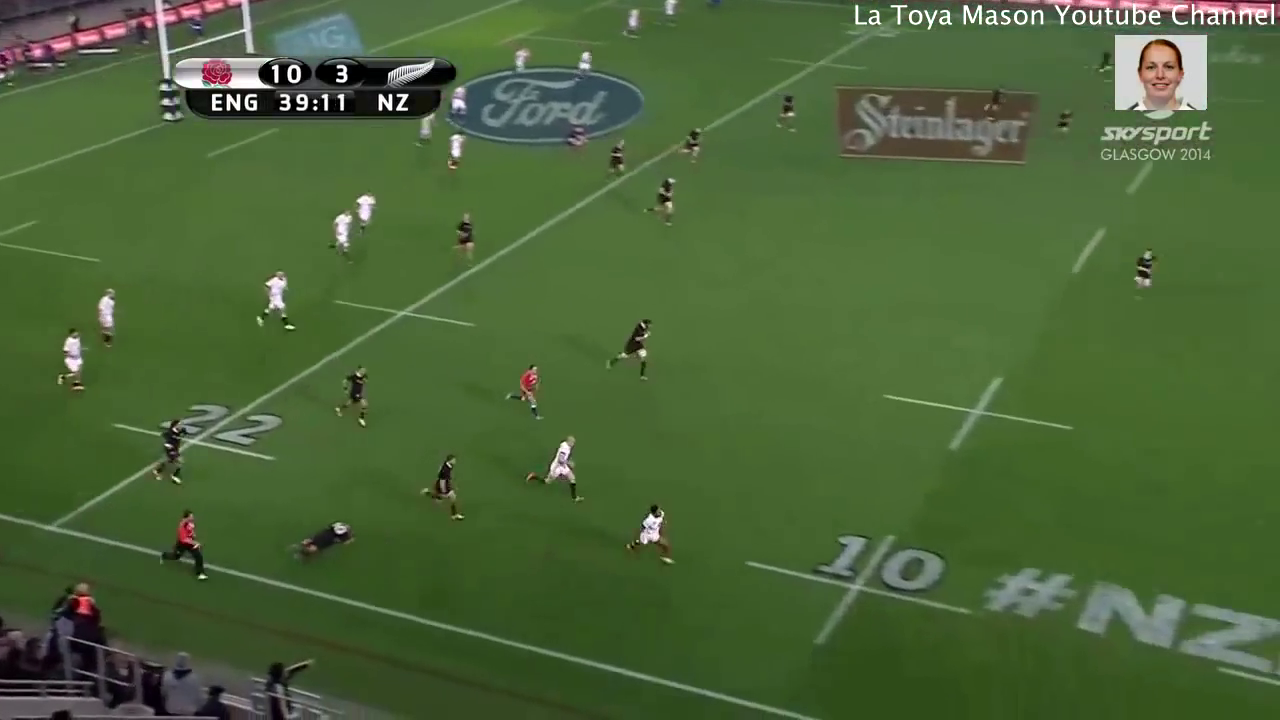player: (520, 430, 593, 508), (153, 502, 213, 584), (601, 311, 659, 387), (415, 448, 470, 528), (283, 512, 361, 564), (332, 360, 382, 435), (45, 323, 94, 396), (251, 266, 301, 336), (624, 502, 676, 566), (501, 359, 549, 424), (149, 418, 190, 489), (85, 281, 120, 352), (635, 174, 677, 233), (1129, 244, 1160, 306), (771, 86, 803, 139), (325, 209, 357, 262), (676, 123, 707, 169), (452, 214, 480, 264), (351, 185, 376, 240), (617, 1, 647, 44), (599, 137, 628, 180), (445, 80, 473, 124), (1052, 102, 1078, 143), (509, 42, 534, 84), (442, 130, 465, 175), (985, 79, 1008, 122), (561, 118, 590, 152), (570, 43, 596, 80), (657, 1, 685, 33), (413, 112, 437, 148)
